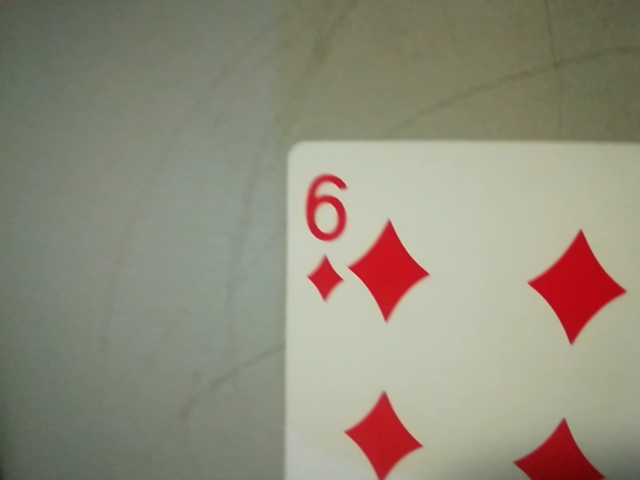fk 6: (294, 166, 354, 306)
